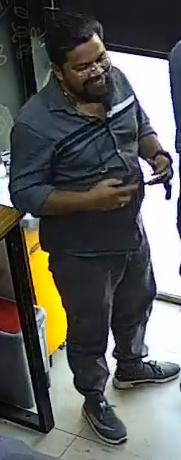no_apron: (21, 38, 150, 268)
